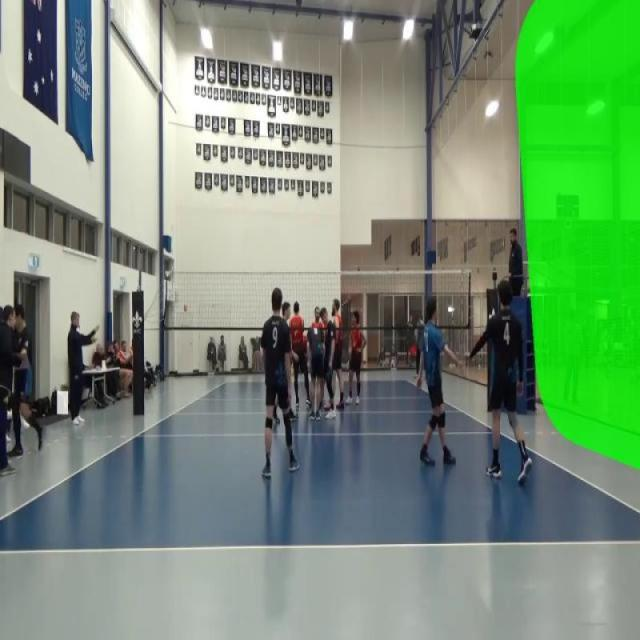volleyball: (290, 368, 294, 376)
